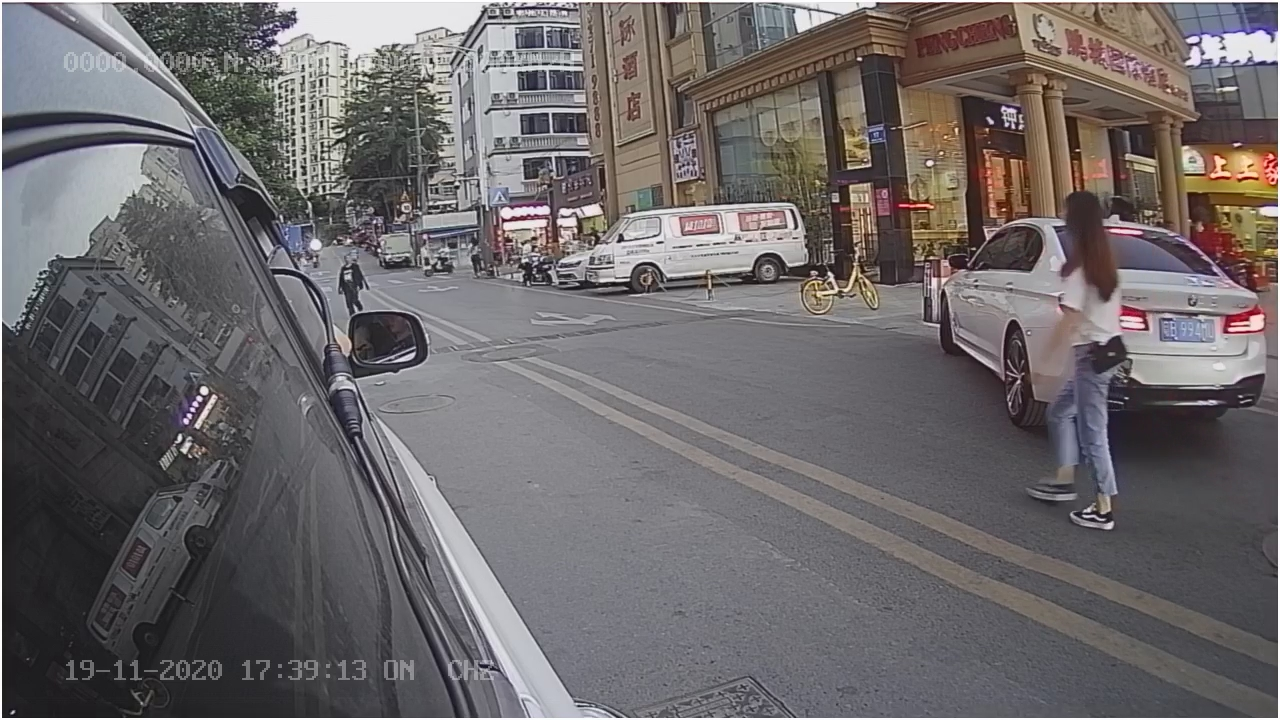person: (1033, 188, 1133, 540)
